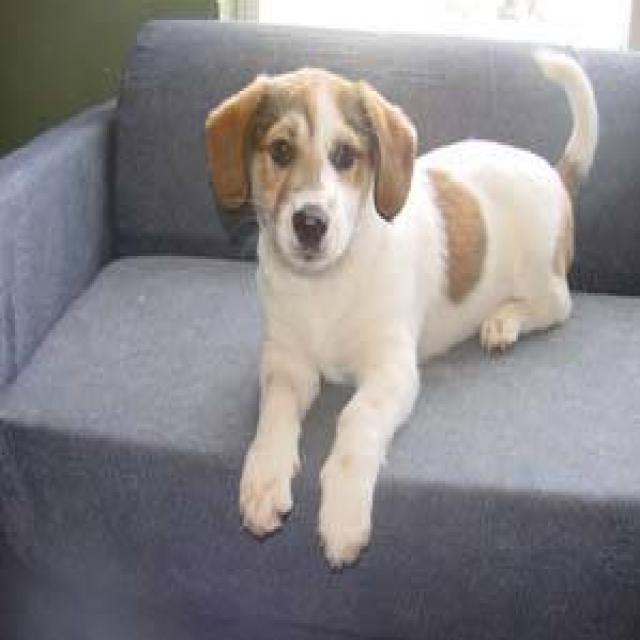dogs: (198, 35, 590, 569)
